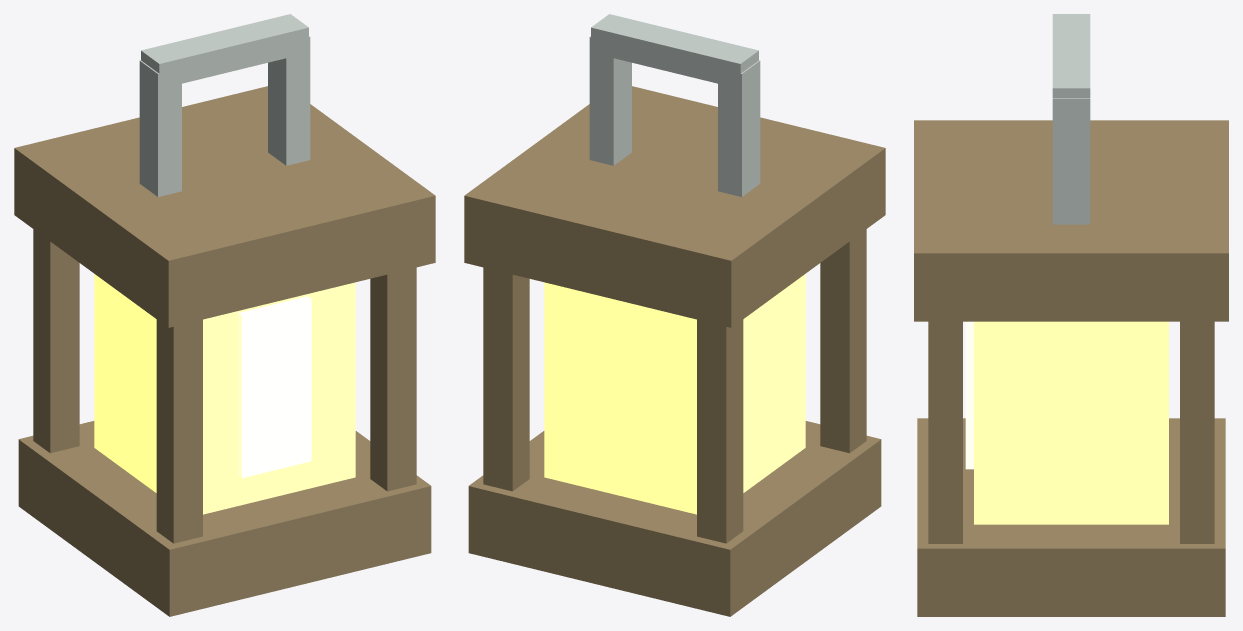
File: lantern.glb
3 views of the same model, side by side, from view 1: azimuth 30°, elevation 25°; view 2: azimuth 150°, elevation 25°; view 3: azimuth 270°, elevation 25° (orthographic). The views are drawn at different scales.
Visible parts, largest first — view 1: roof, base, light, core, frame, frame.002, frame.001, handle_top, handle, handle.001; view 2: roof, light, base, frame.001, frame.003, frame, handle_top, handle, handle.001; view 3: roof, light, base, frame.002, frame.003, handle.001, handle_top, core.
Boxes of the visible parts, x1,y1,x2,y2 form: roof: (14, 86, 435, 327); base: (18, 421, 431, 616); light: (94, 274, 355, 514); core: (238, 296, 311, 478); frame: (156, 319, 202, 543); frame.002: (370, 267, 416, 491); frame.001: (33, 229, 79, 453); handle_top: (141, 14, 308, 87); handle: (139, 60, 181, 196); handle.001: (268, 36, 310, 165); roof: (464, 86, 885, 327); light: (544, 274, 805, 514); base: (468, 421, 881, 616); frame.001: (697, 319, 743, 543); frame.003: (483, 267, 529, 491); frame: (820, 229, 866, 453); handle_top: (591, 14, 758, 88); handle: (718, 60, 760, 196); handle.001: (589, 36, 631, 165); roof: (914, 120, 1228, 321); light: (974, 321, 1168, 524); base: (917, 418, 1225, 616); frame.002: (928, 321, 962, 543); frame.003: (1180, 321, 1214, 543); handle.001: (1052, 98, 1090, 224); handle_top: (1052, 14, 1090, 98); core: (965, 321, 973, 469).
Bounding box in the file's own units: 0.5 × 0.8775 × 0.5.
